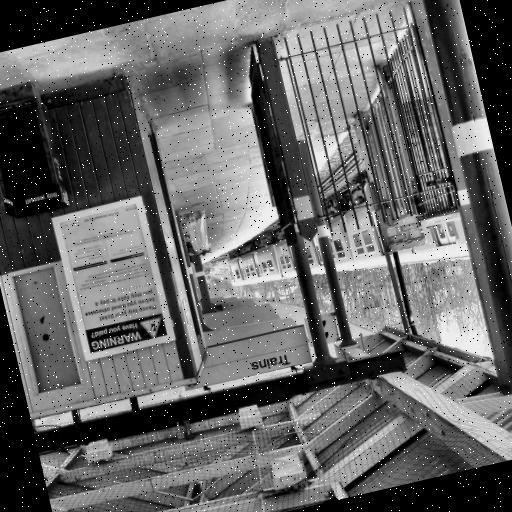platform_edge: (207, 150, 370, 267)
